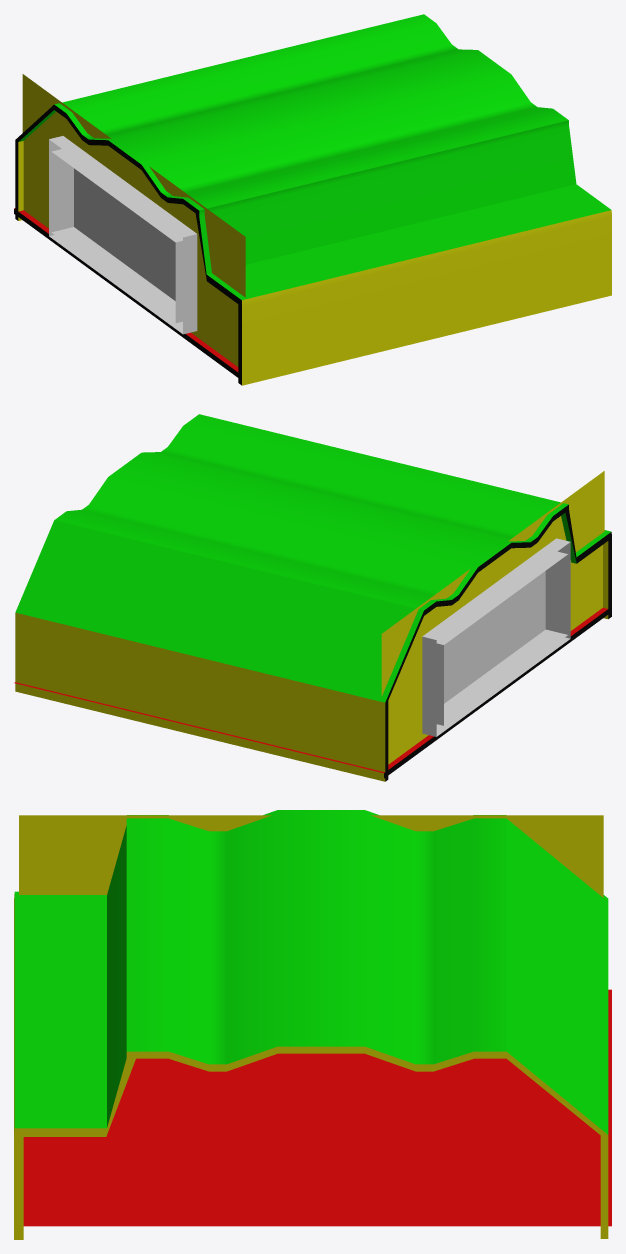
Rendered from Lobby.fbx.
3 views of the same model, one above another, from view 1: azimuth 30°, elevation 25°; view 2: azimuth 150°, elevation 25°; view 3: azimuth 270°, elevation 25° (orthographic). The views are drawn at different scales.
Visible parts, largest first — view 1: base, frame, window; view 2: base, frame, window; view 3: base.
Boxes of the visible parts, x1,y1,x2,y2 form: base: (14,14,611,385); frame: (49,136,197,334); window: (74,168,175,300); base: (14,414,611,781); frame: (422,538,570,736); window: (444,571,545,703); base: (14,810,611,1239).
Size of the model in its own units: 7.05 by 2.6 by 7.3.
